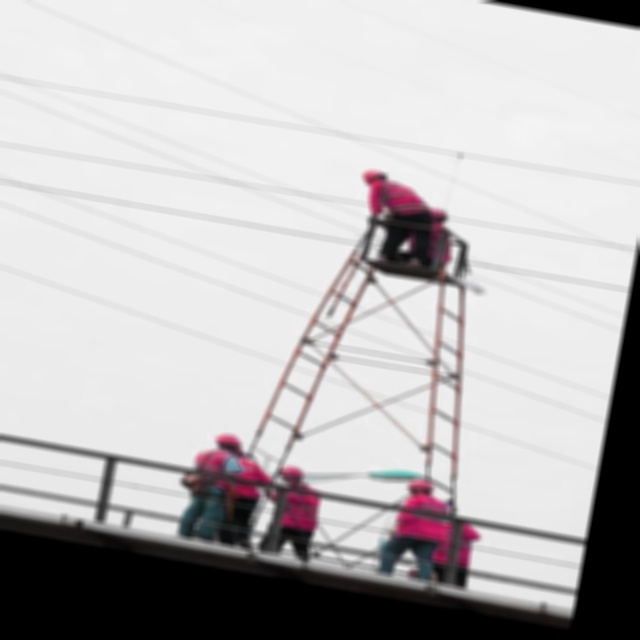Con_Chaleco: (393, 493, 454, 545), (368, 177, 430, 217), (193, 446, 244, 489)
